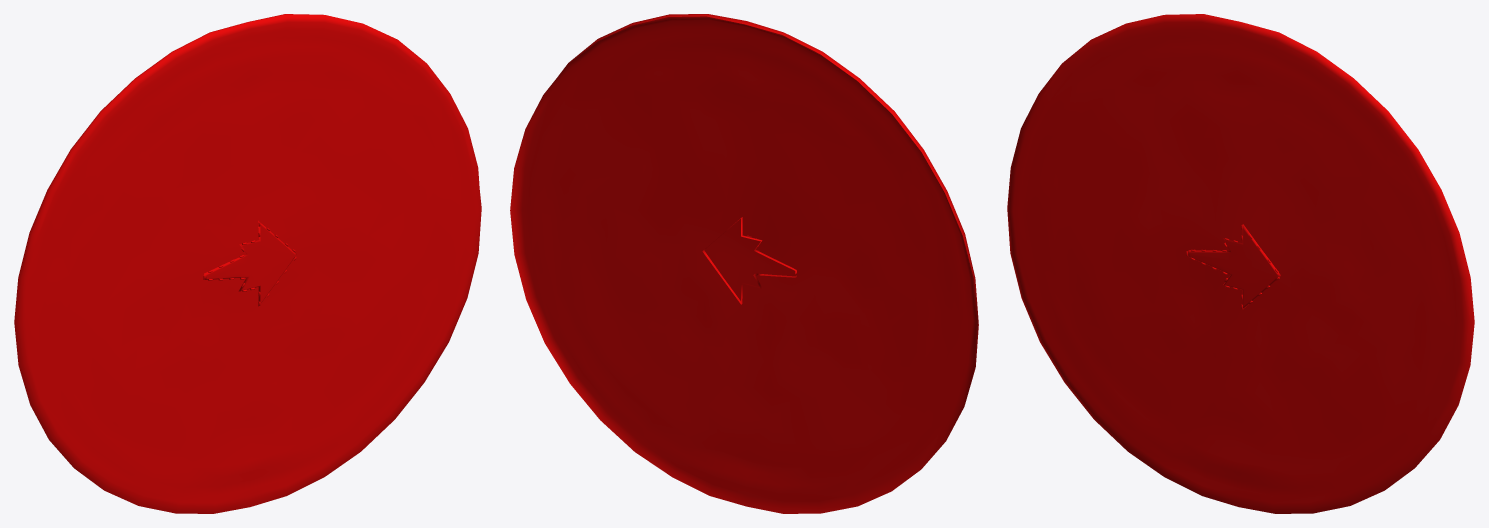
File: dash.fbx
The picture shows the model from 3 angles, left to right: view 1: azimuth 30°, elevation 25°; view 2: azimuth 150°, elevation 25°; view 3: azimuth 330°, elevation 25°; orthographic projection.
Parts seen in each view (by area): view 1: toppa_low, dash_low; view 2: toppa_low, dash_low; view 3: toppa_low, dash_low.
Boxes of the visible parts, bbox=[...] form: toppa_low: bbox=[14, 14, 481, 513]; dash_low: bbox=[204, 221, 296, 306]; toppa_low: bbox=[510, 14, 978, 513]; dash_low: bbox=[702, 217, 796, 304]; toppa_low: bbox=[1007, 14, 1474, 513]; dash_low: bbox=[1188, 224, 1280, 309].
Size of the model in its own units: 213 by 210 by 4.89.
